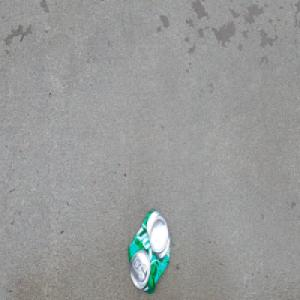SodaCan: (127, 207, 172, 295)
